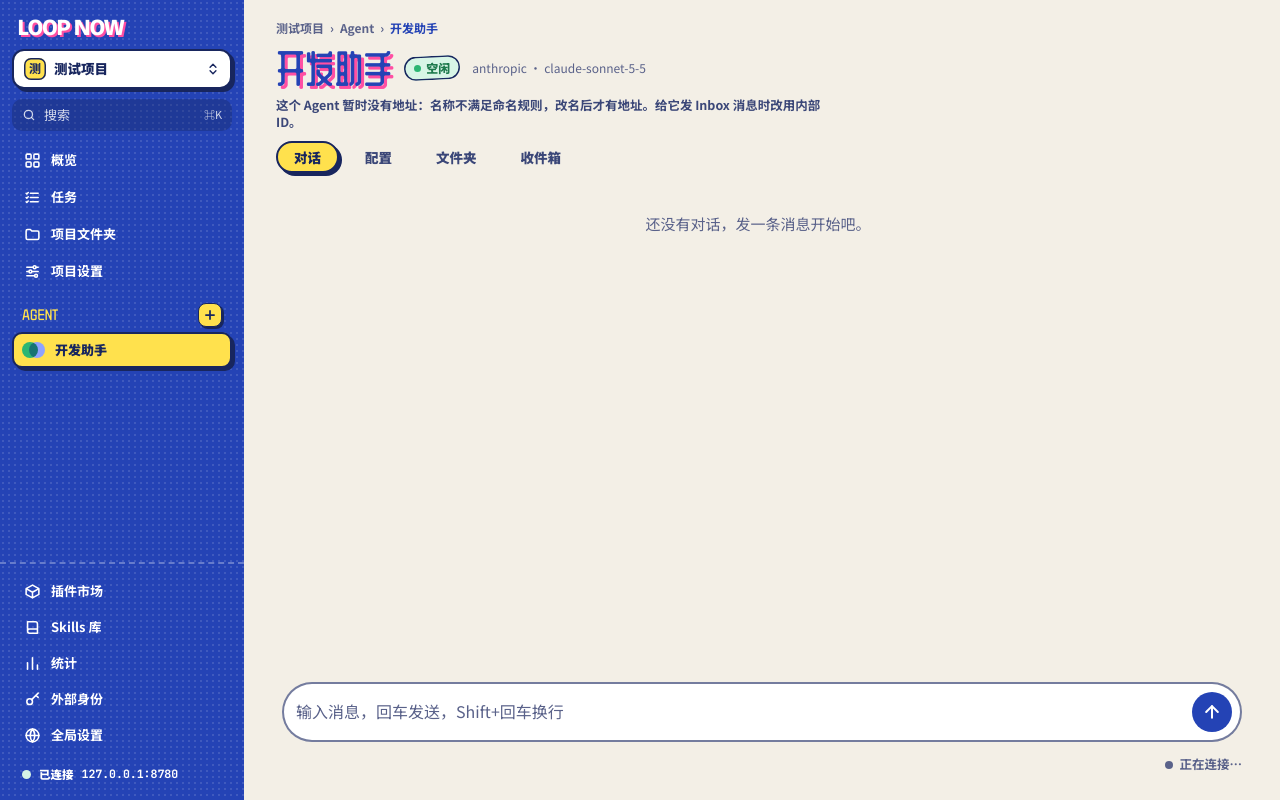
Test case: 发送消息 › 发送期间改动了已发出的部分时，发送成功后内容全部保留
Expected: the element showing "还没有对话，发一条消息开始吧。" is shown, top-left (646, 215), bottom-right (870, 233)
In the text box labelled "消息": (738,712) top-left (292, 692), bottom-right (1184, 732), type "第一条"
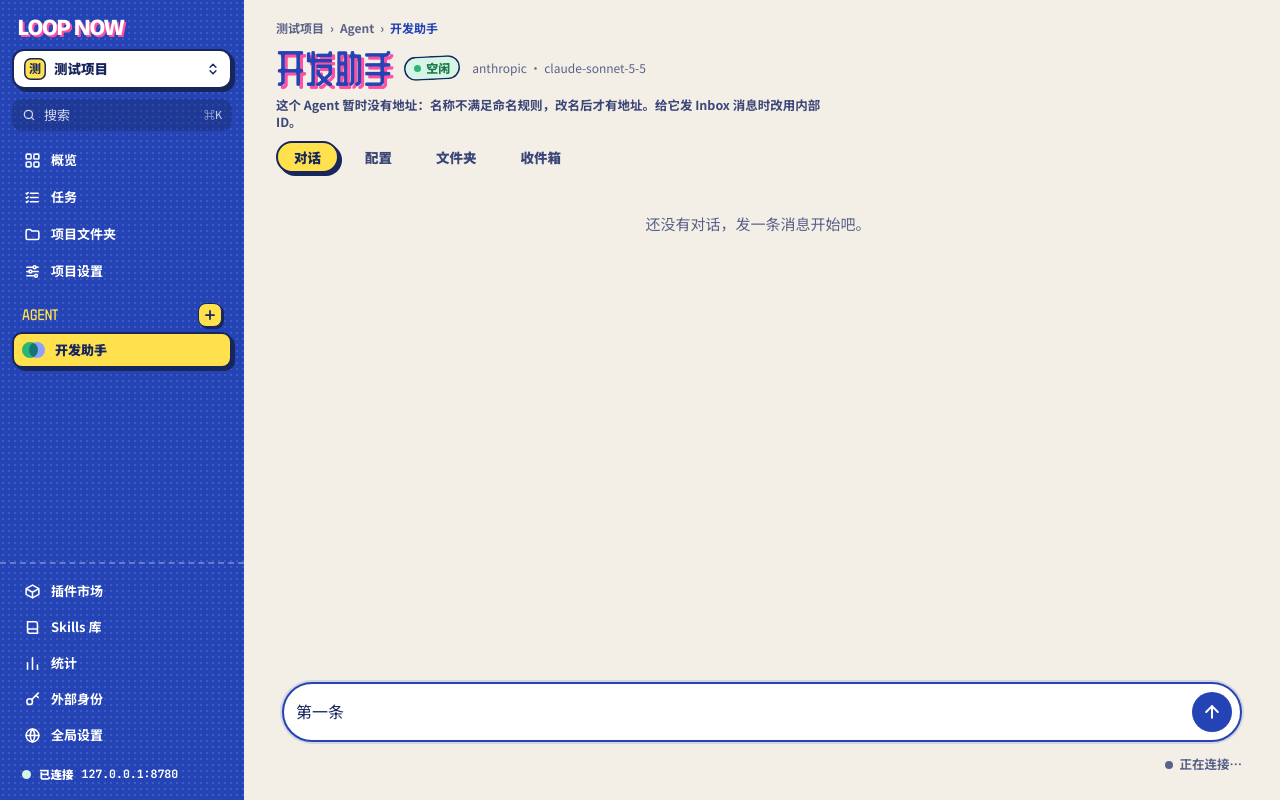
Click the button named "发送": (1212,712) top-left (1192, 692), bottom-right (1232, 732)
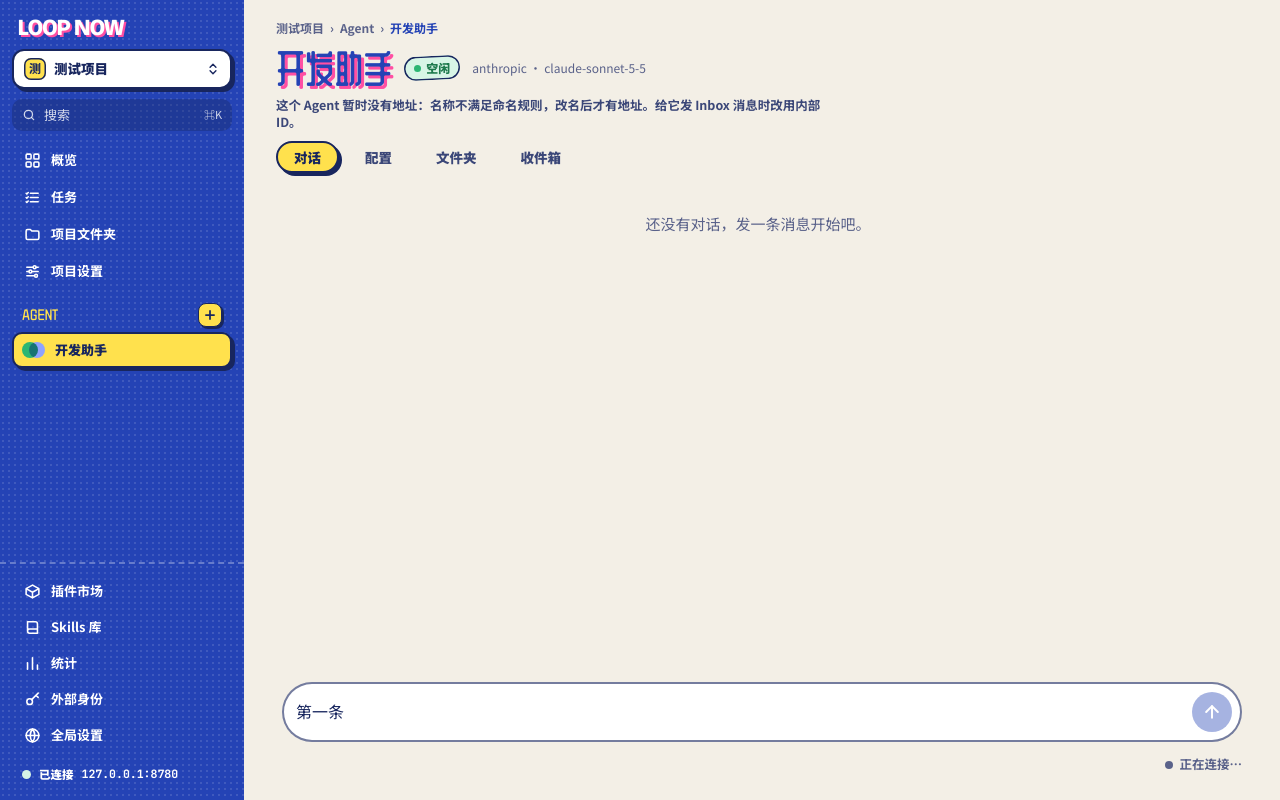
Replace the text in the text box named "消息" with "第1条，改过了": (738,712) top-left (292, 692), bottom-right (1184, 732)
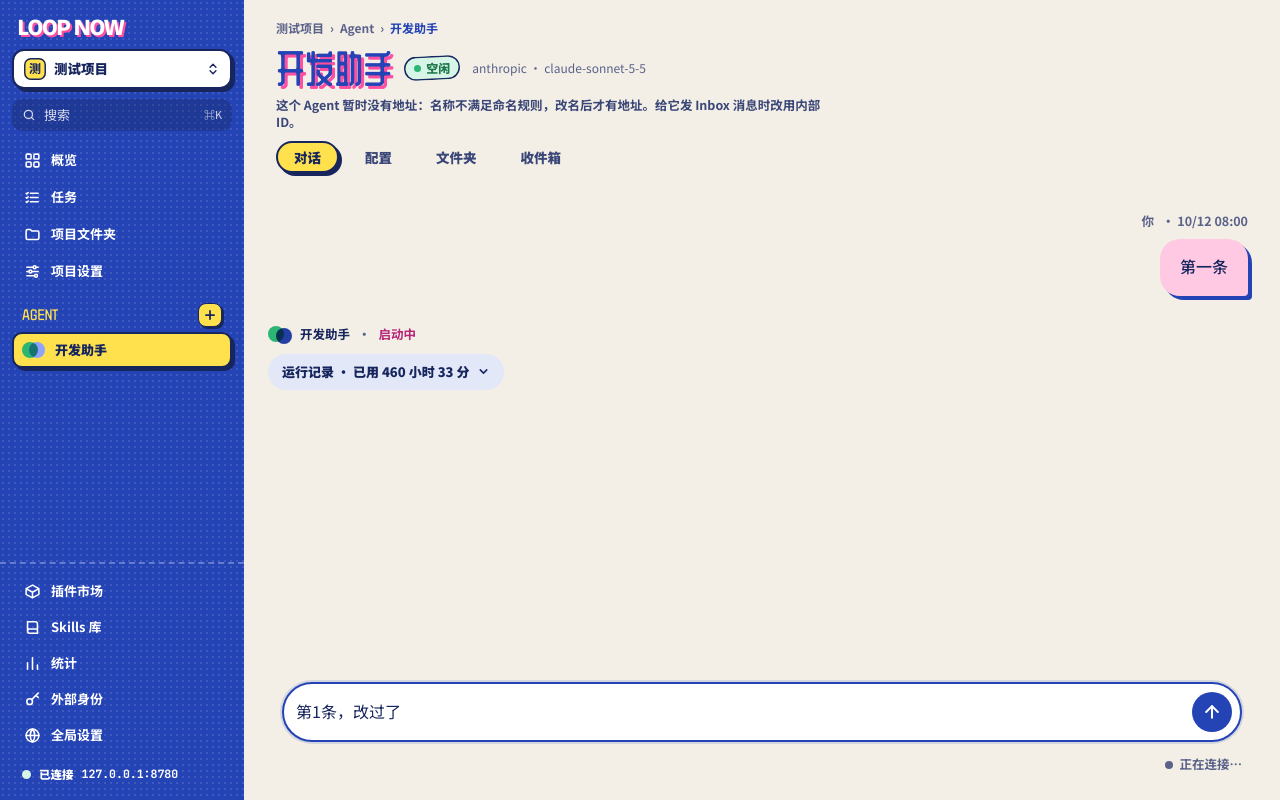
Expected: the button named "发送" is enabled, top-left (1192, 692), bottom-right (1232, 732)
